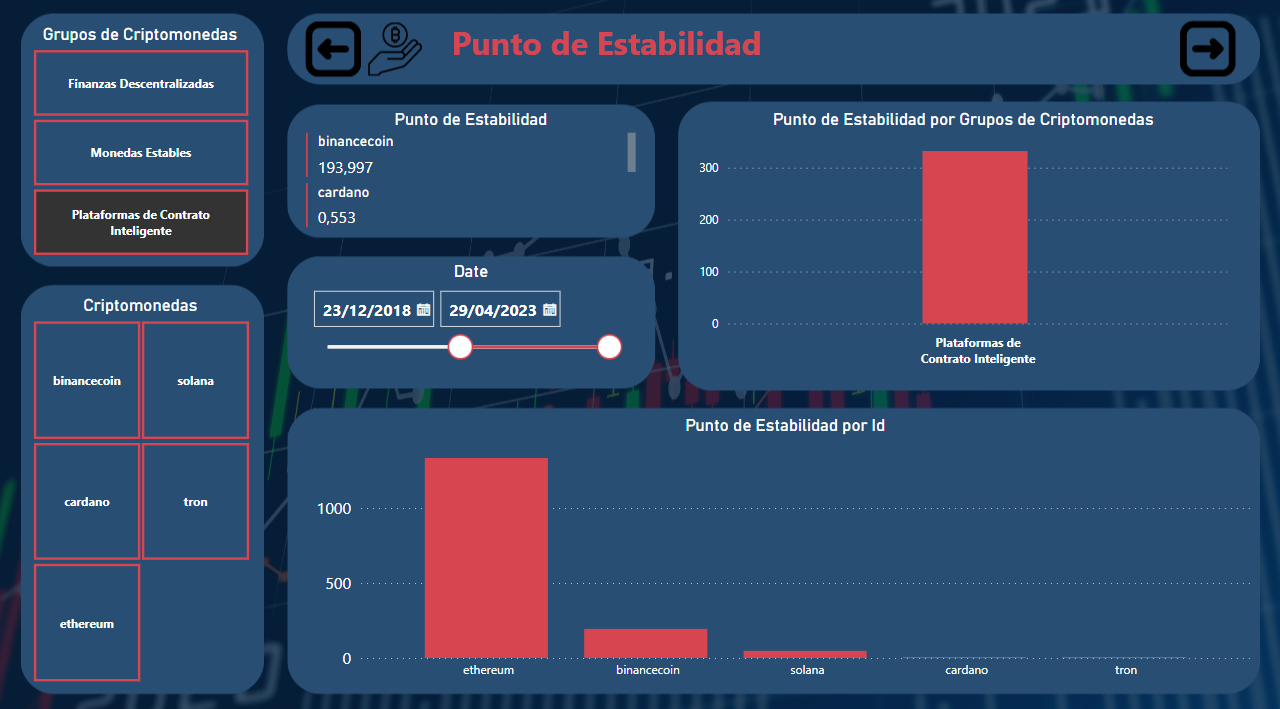

This screenshot's page, from the dashboard's own definition file:
{"tool":"powerbi","page":{"name":"Punto de Estabilidad","canvas":[1280,720],"ordinal":3},"visuals":[{"type":"textbox","box":[446,21.7,365.7,76.4],"z":0},{"type":"clusteredColumnChart","title":"Punto de Estabilidad por Grupos de Criptomonedas","fields":{"Y":["Avg(criptomonedas.prices)"],"Category":["combinado_completo.Grupos de Criptomonedas"]},"box":[693.3,113.3,538.9,265.6],"z":1000},{"type":"clusteredColumnChart","title":"Punto de Estabilidad por Id","fields":{"Y":["Avg(criptomonedas.prices)"],"Category":["combinado_completo.id"]},"box":[311.1,420,947.8,273.3],"z":2000},{"type":"multiRowCard","title":"Punto de Estabilidad","fields":{"Values":["criptomonedas.id","Avg(criptomonedas.prices)"]},"box":[300.8,113.3,339.2,129.2],"z":3000},{"type":"slicer","title":"Date","fields":{"Values":["combinado_completo.date"]},"box":[300.8,266.7,339.2,123.3],"z":4000},{"type":"slicer","title":"Grupos de Criptomonedas","fields":{"Values":["combinado_completo.Grupos de Criptomonedas"]},"box":[7.7,28.5,264.6,238.5],"z":5000},{"type":"slicer","title":"Criptomonedas","fields":{"Values":["combinado_completo.id"]},"box":[7.3,300,265.5,393.6],"z":6000},{"type":"actionButton","box":[1179.9,21.7,62.4,63.7],"z":7000},{"type":"actionButton","box":[300.8,21.5,63.1,65.4],"z":8000}]}

Visuals, with their boxes in screenshot pixels (x1, y1, x2, y2), scaled from the page's 1280x720 canvas onto the 1280x709 screenshot:
textbox: [x1=446, y1=21, x2=812, y2=97]
"Punto de Estabilidad por Grupos de Criptomonedas" clusteredColumnChart: [x1=693, y1=112, x2=1232, y2=373]
"Punto de Estabilidad por Id" clusteredColumnChart: [x1=311, y1=414, x2=1259, y2=683]
"Punto de Estabilidad" multiRowCard: [x1=301, y1=112, x2=640, y2=239]
"Date" slicer: [x1=301, y1=263, x2=640, y2=384]
"Grupos de Criptomonedas" slicer: [x1=8, y1=28, x2=272, y2=263]
"Criptomonedas" slicer: [x1=7, y1=295, x2=273, y2=683]
actionButton: [x1=1180, y1=21, x2=1242, y2=84]
actionButton: [x1=301, y1=21, x2=364, y2=86]
